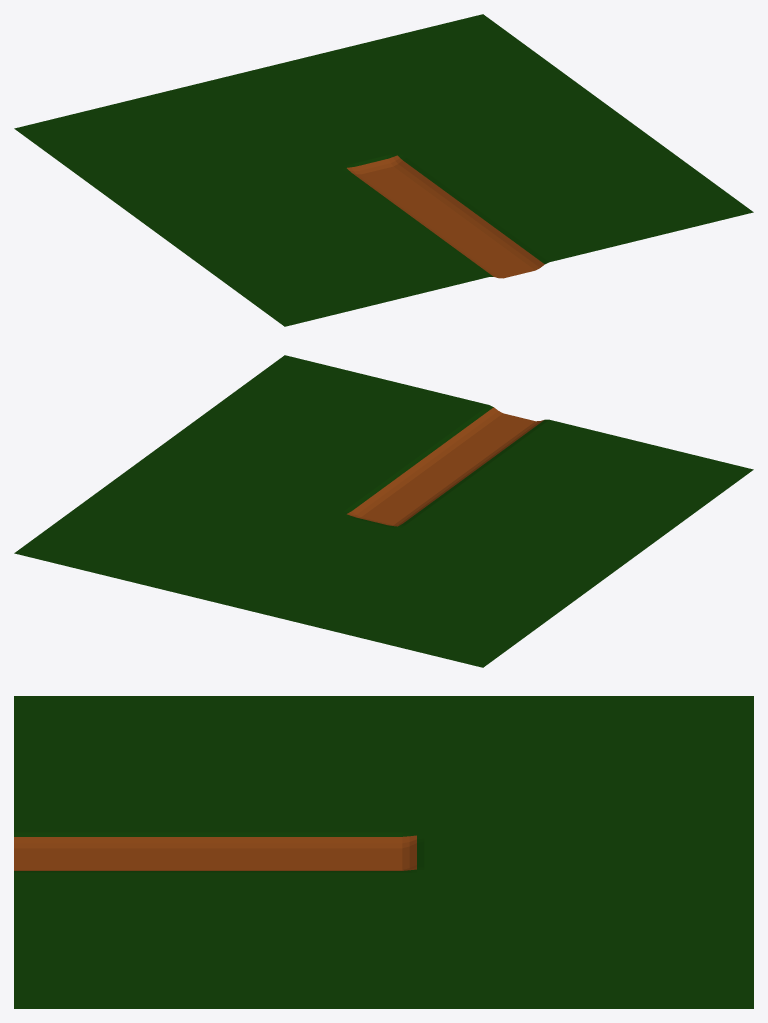
Rendered from Terrain_Part_Plane_12.fbx.
The picture shows the model from 3 angles, top to bottom: view 1: azimuth 30°, elevation 25°; view 2: azimuth 150°, elevation 25°; view 3: azimuth 270°, elevation 25°; orthographic projection. The views are drawn at different scales.
Visible parts, largest first — view 1: Terrain_Part_Plane_12; view 2: Terrain_Part_Plane_12; view 3: Terrain_Part_Plane_12.
Part boxes in pixels (<box>): Terrain_Part_Plane_12: <box>14,14,753,326</box>; Terrain_Part_Plane_12: <box>14,355,753,667</box>; Terrain_Part_Plane_12: <box>14,696,753,1008</box>.
Size of the model in its own units: 2000 by 20 by 2000.
